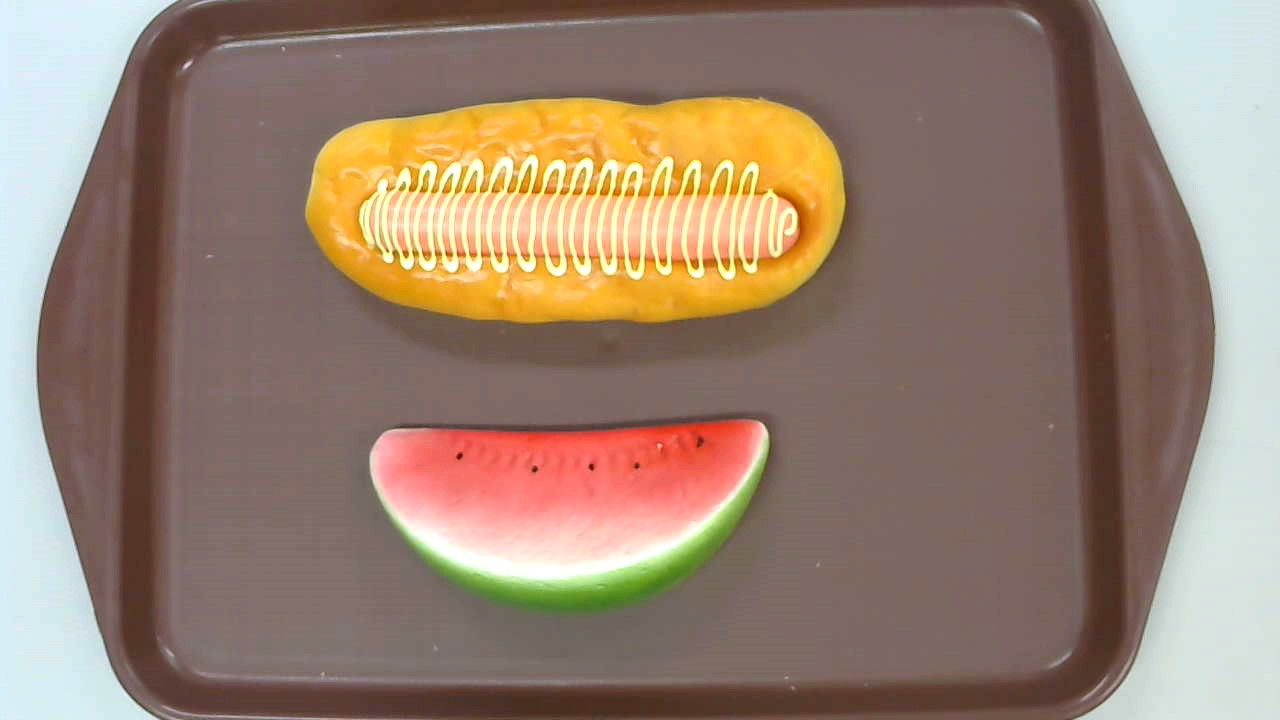hot dog: (303, 97, 846, 324)
water melon: (370, 416, 771, 611)
